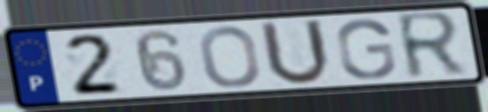2: (61, 32, 122, 98)
6: (132, 28, 191, 94)
G: (333, 17, 399, 81)
O: (197, 24, 263, 90)
R: (392, 8, 471, 84)
U: (256, 17, 335, 89)
